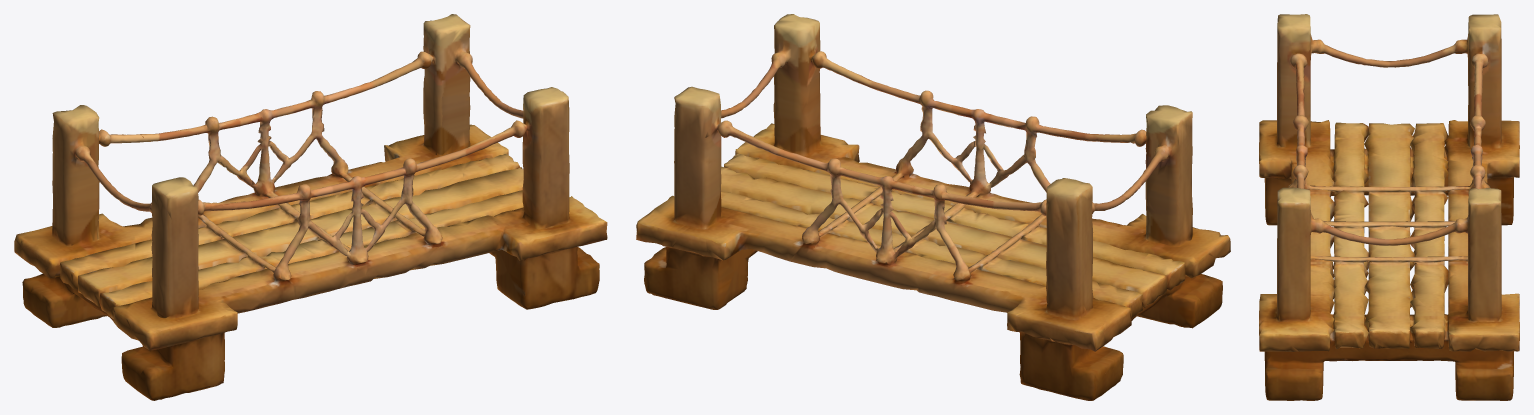
The model's file is bridge.glb.
The picture shows the model from 3 angles, left to right: view 1: azimuth 30°, elevation 25°; view 2: azimuth 150°, elevation 25°; view 3: azimuth 270°, elevation 25°; orthographic projection. The views are drawn at different scales.
Visible parts, largest first — view 1: model; view 2: model; view 3: model.
Boxes of the visible parts, left/top/right/bottom form: model: left=14, top=14, right=607, bottom=400; model: left=636, top=14, right=1230, bottom=400; model: left=1259, top=14, right=1519, bottom=400.
Size of the model in its own units: 1.9 by 0.78 by 0.9734.
Materials: 1 (1 with a texture image).
